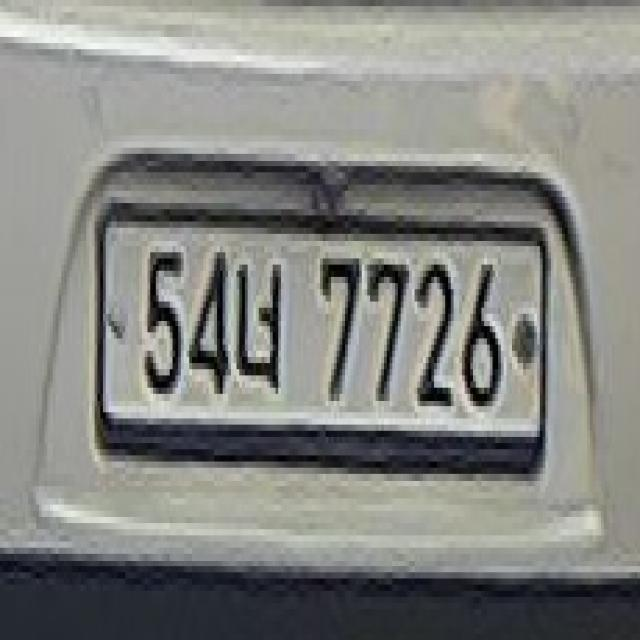2: (415, 258, 456, 424)
4: (186, 240, 234, 418)
5: (139, 227, 187, 418)
6: (462, 246, 517, 419)
7: (312, 234, 362, 406), (365, 234, 406, 412)
license_plate: (80, 197, 554, 498)
neo: (231, 252, 295, 394)
